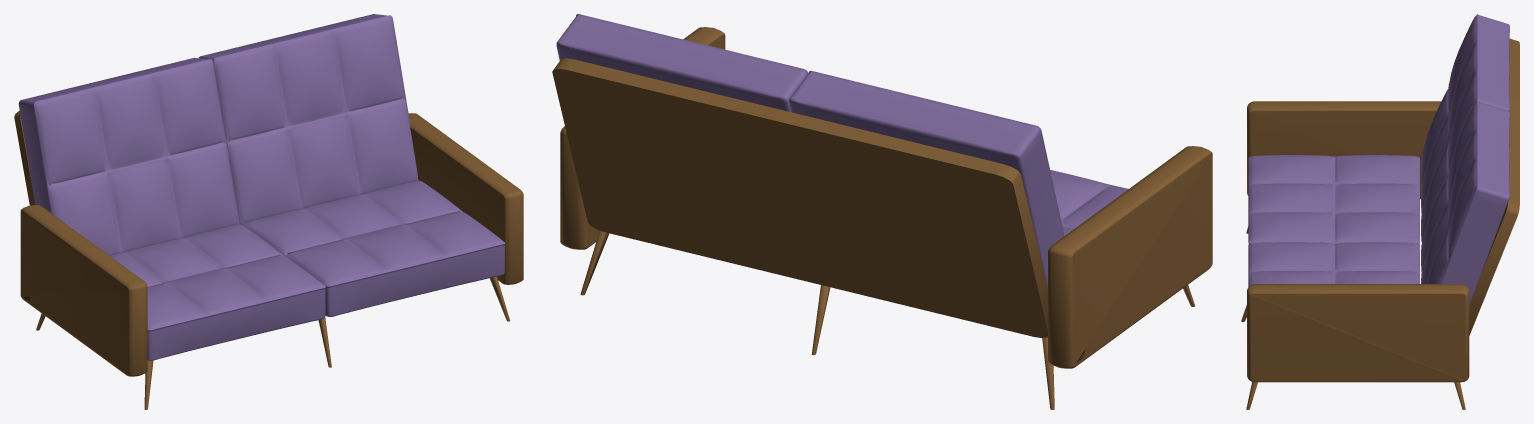
File: SofaMorado.fbx
3 renders of one model, left to right at view 1: azimuth 30°, elevation 25°; view 2: azimuth 150°, elevation 25°; view 3: azimuth 270°, elevation 25°, orthographic. The views are drawn at different scales.
Visible parts, largest first — view 1: patas.001; view 2: patas.001; view 3: patas.001.
Boxes of the visible parts, x1,y1,x2,y2 form: patas.001: (14,14,523,409); patas.001: (552,14,1212,409); patas.001: (1241,14,1519,409).
Bounding box in the file's own units: 211 × 113 × 129.
